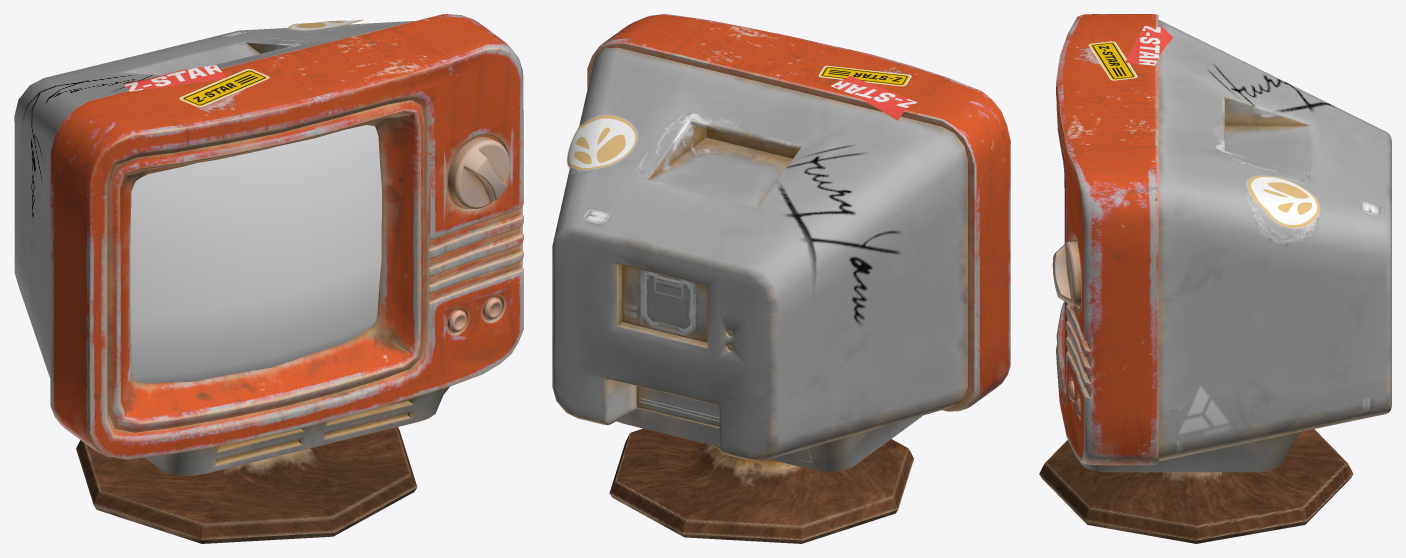
The model's file is tv-1k-processed.glb.
3 views of the same model, side by side, from view 1: azimuth 30°, elevation 25°; view 2: azimuth 150°, elevation 25°; view 3: azimuth 270°, elevation 25° (orthographic). The views are drawn at different scales.
Visible parts, largest first — view 1: 2_TV_Solo, 1_TV_Screen, 3_TV_Stickers; view 2: 2_TV_Solo, 3_TV_Stickers; view 3: 2_TV_Solo, 3_TV_Stickers.
Boxes of the visible parts, left/top/right/bottom form: 2_TV_Solo: left=14, top=14, right=523, bottom=543; 1_TV_Screen: left=130, top=125, right=381, bottom=383; 3_TV_Stickers: left=123, top=19, right=363, bottom=107; 2_TV_Solo: left=552, top=14, right=1010, bottom=543; 3_TV_Stickers: left=567, top=65, right=917, bottom=170; 2_TV_Solo: left=1039, top=14, right=1391, bottom=543; 3_TV_Stickers: left=1088, top=26, right=1319, bottom=228.
Size of the model in its own units: 62.67 by 60.56 by 49.32.
3 materials, 2 textured.
